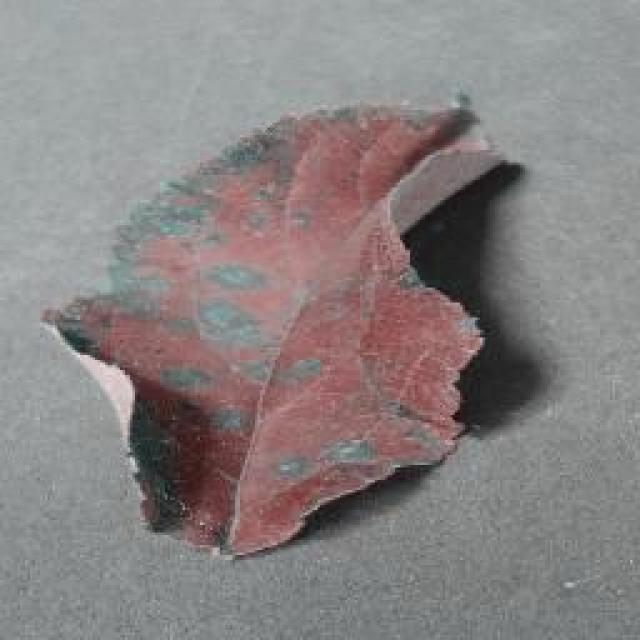apple cedar apple rust: (37, 92, 515, 558)
